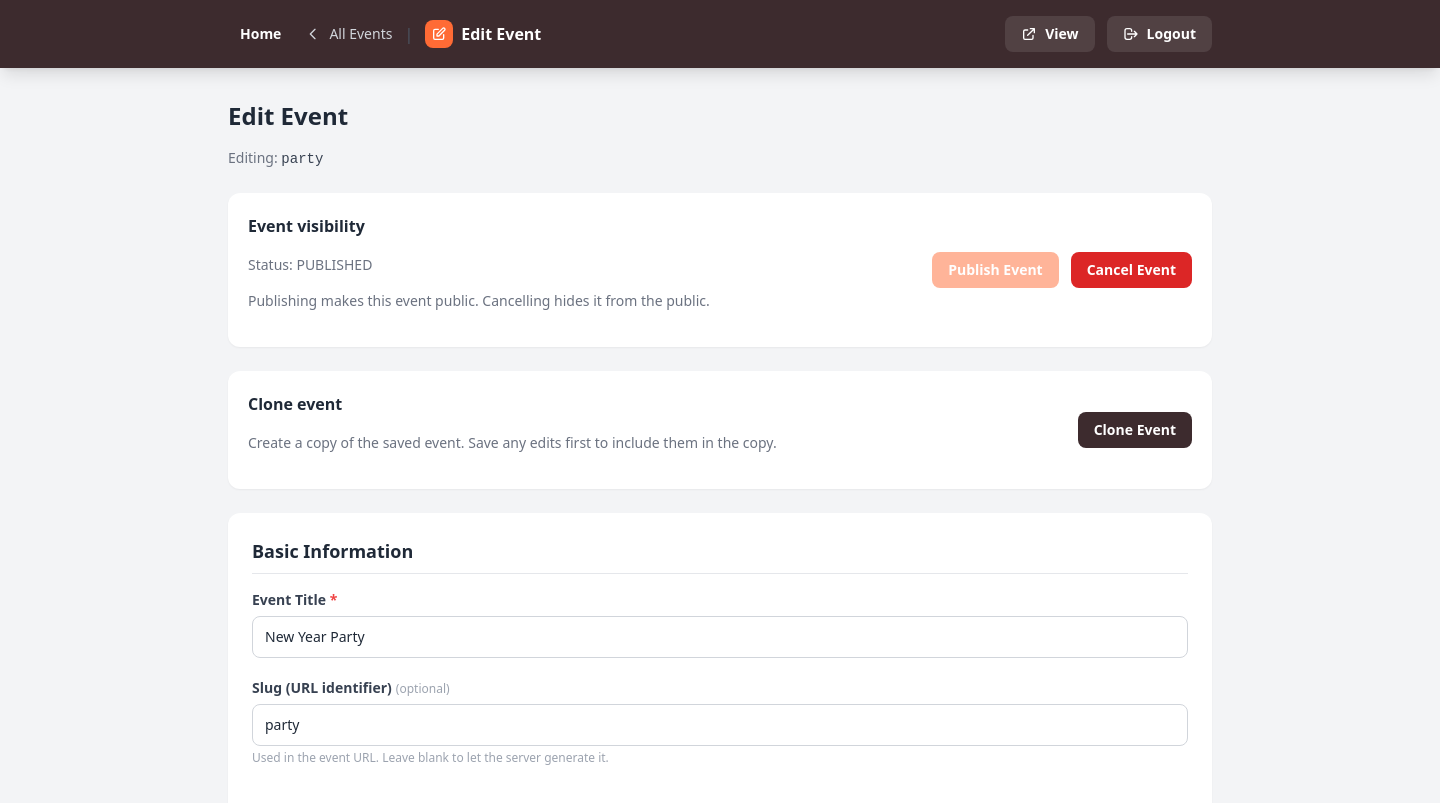
AdminEventEdit › AdminEventEdit cancels published events via the cancel endpoint
The width and height of the screenshot is (1440, 803).
What coordinates should you click on to do the following:
click the button "Cancel Event"
I would click on:
 (1131, 270)
Its box is [1071,252,1192,288].
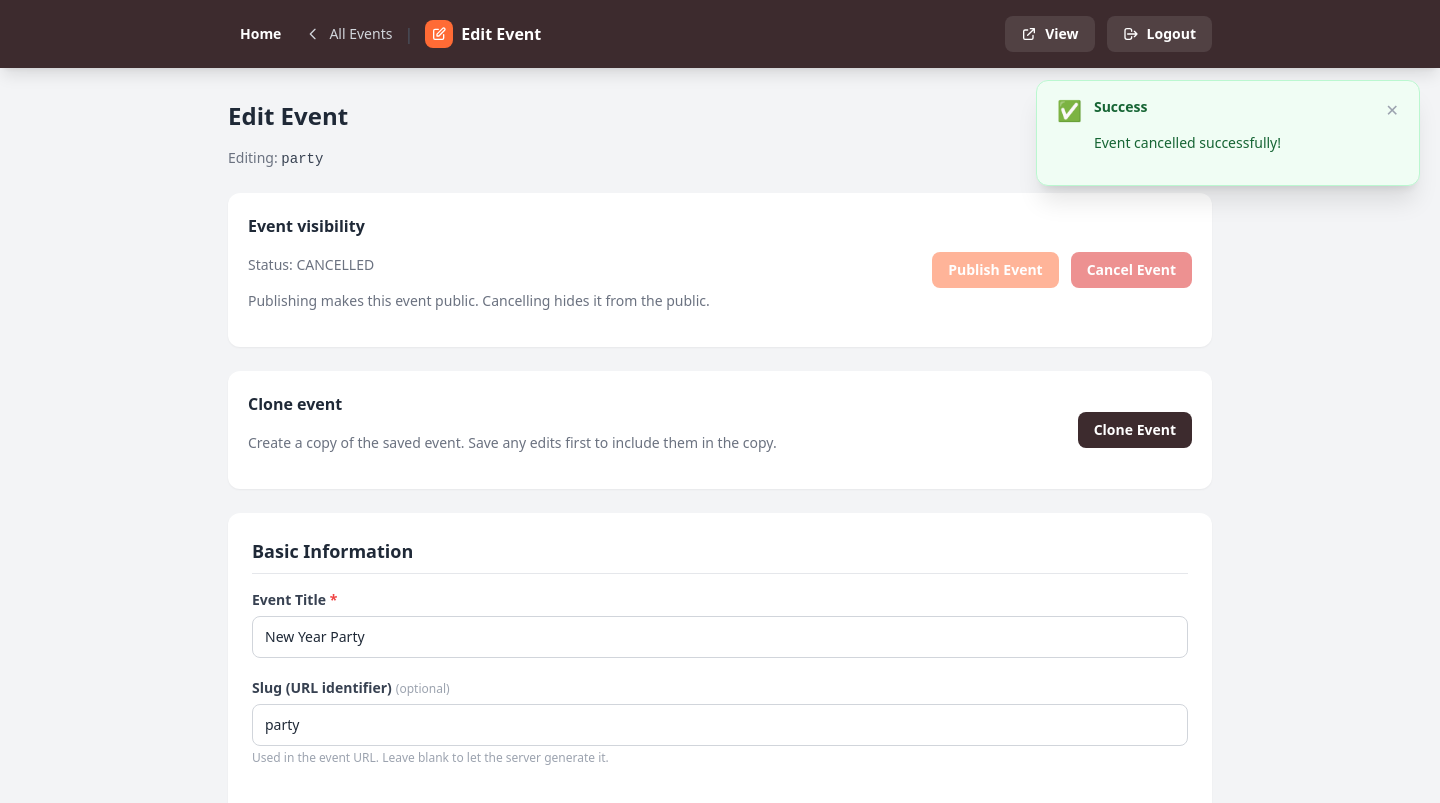
Check: the text "Status: CANCELLED" is shown, box [248,255,374,274]
